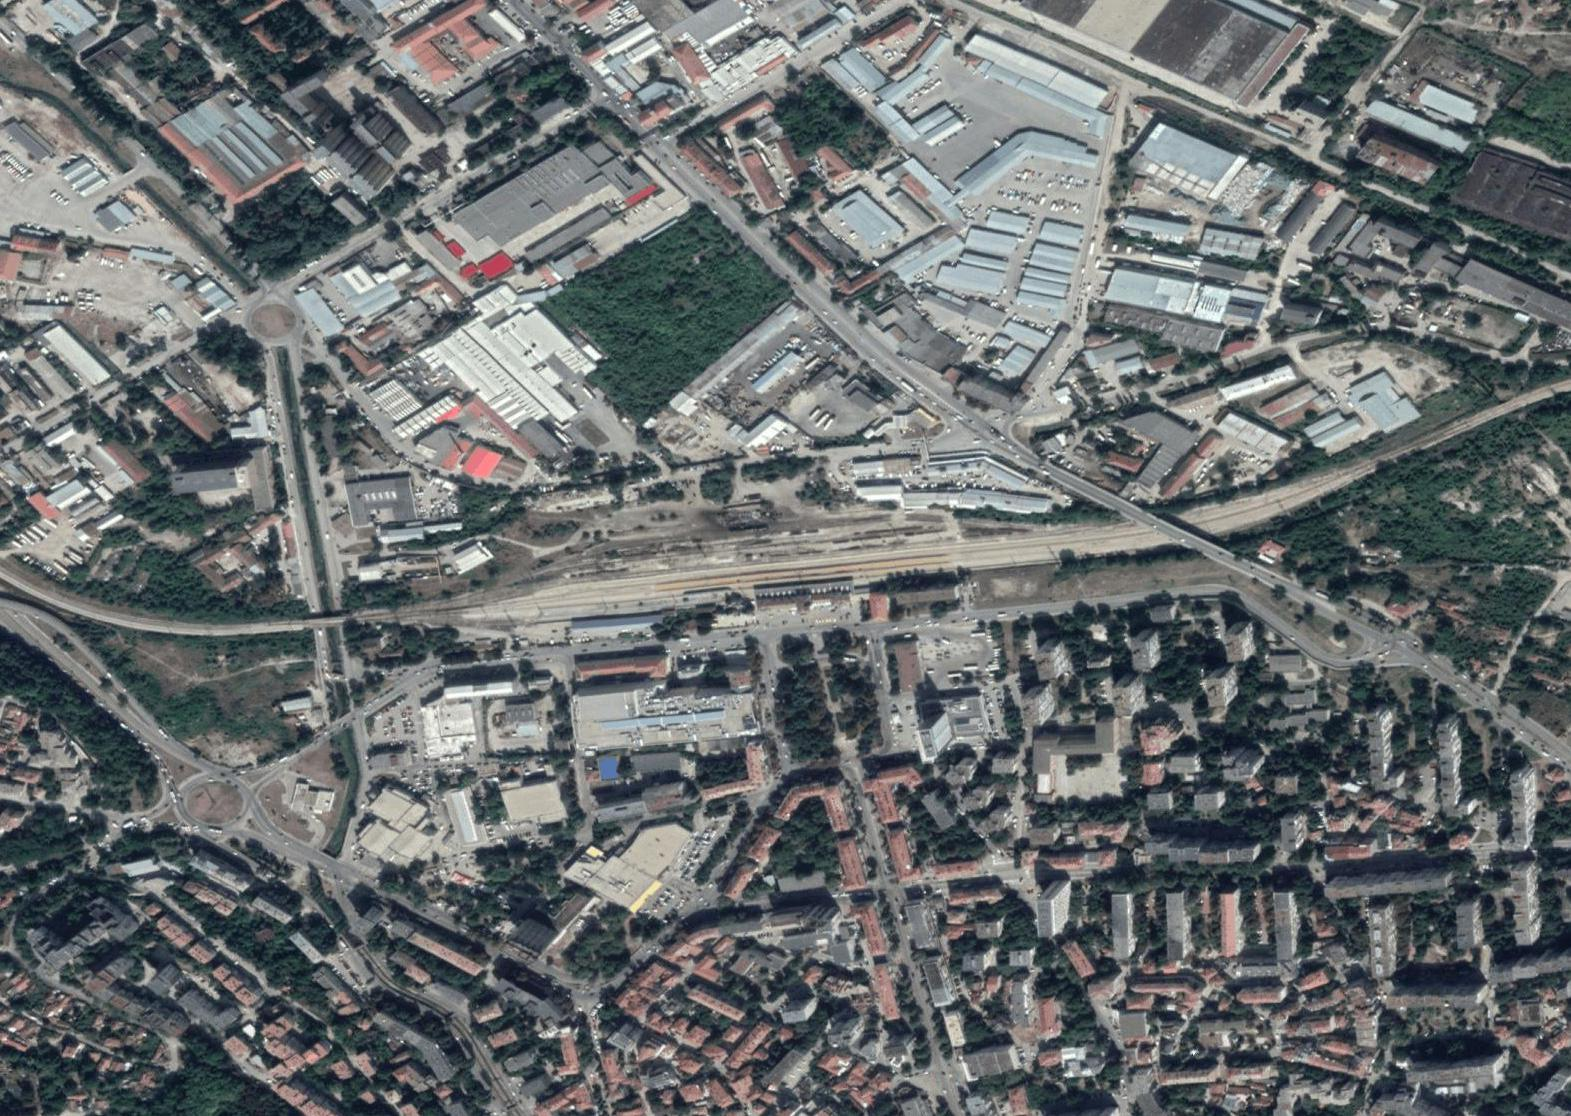bridge: (1130, 505, 1195, 545), (301, 608, 349, 630)
industrial: (435, 29, 1250, 489)
train_station: (483, 502, 1080, 653)
